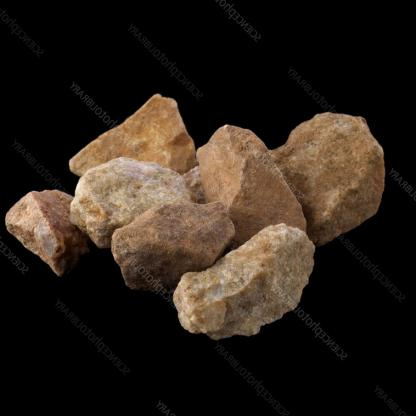Sedimentary_Sandstone: (168, 216, 318, 345), (267, 107, 389, 246), (54, 81, 196, 195), (181, 121, 300, 248), (50, 157, 184, 240), (1, 183, 70, 270)
